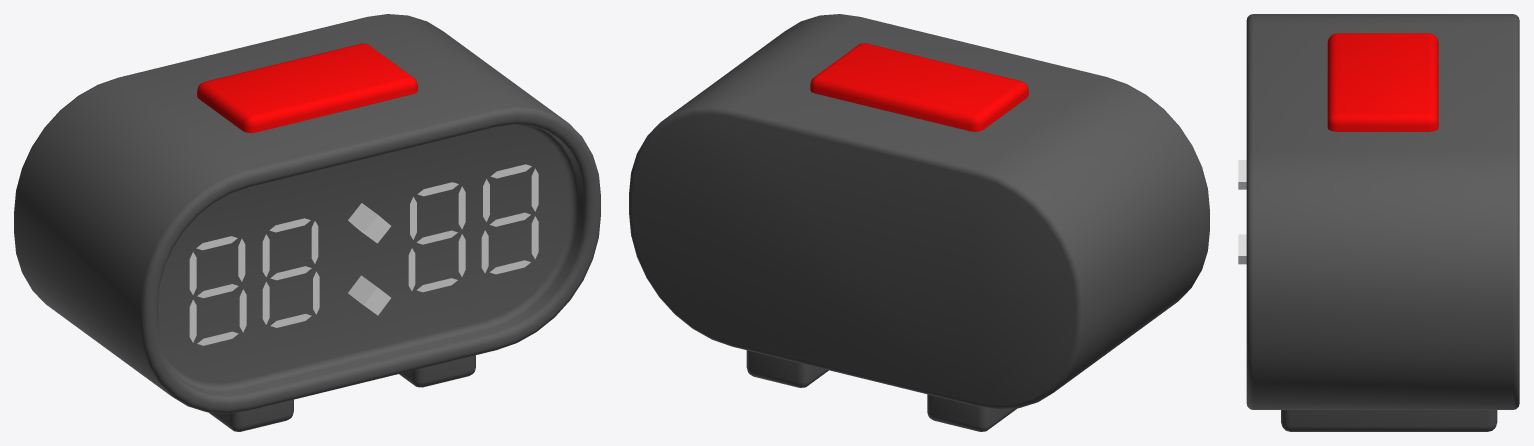
The model's file is Timer.fbx.
3 views of the same model, side by side, from view 1: azimuth 30°, elevation 25°; view 2: azimuth 150°, elevation 25°; view 3: azimuth 270°, elevation 25° (orthographic). The views are drawn at different scales.
Parts seen in each view (by area): view 1: Cube, Button, Numbers, Little legs, Cube.001; view 2: Cube, Button, Little legs; view 3: Cube, Button, Little legs, Cube.001.
Part boxes in pixels (x1,y1,x2,y2): Cube: [14, 14, 600, 413]; Button: [197, 43, 417, 133]; Numbers: [189, 164, 538, 345]; Little legs: [208, 355, 475, 431]; Cube.001: [348, 203, 391, 315]; Cube: [629, 14, 1209, 409]; Button: [810, 43, 1028, 131]; Little legs: [746, 350, 1017, 431]; Cube: [1246, 14, 1519, 409]; Button: [1327, 33, 1438, 131]; Little legs: [1281, 410, 1497, 431]; Cube.001: [1238, 160, 1246, 264].
Size of the model in its own units: 20 by 12.11 by 10.3.
